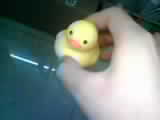duck: (51, 12, 105, 68)
